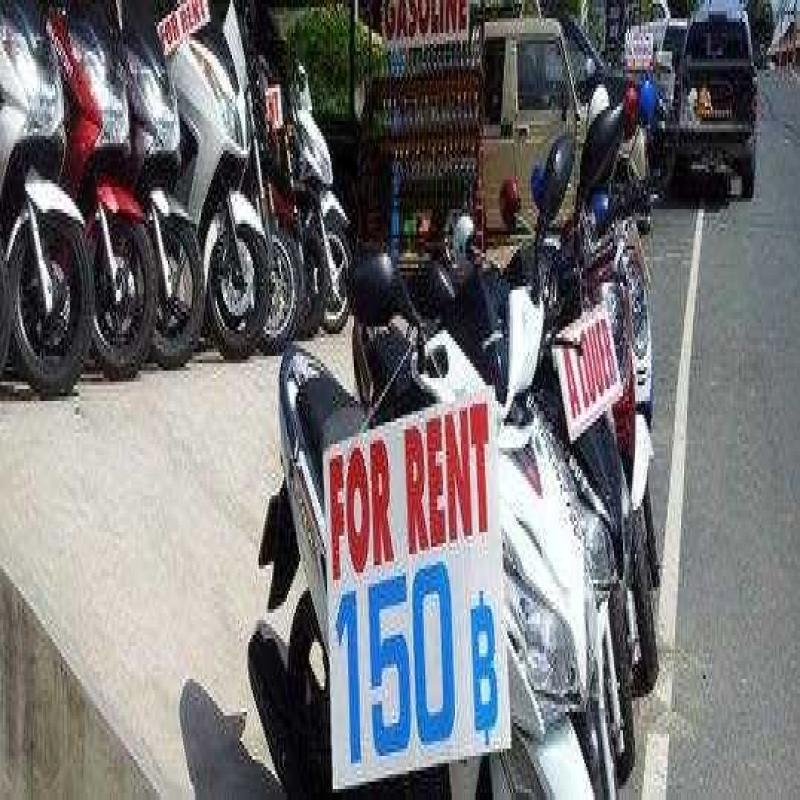bike: (399, 273, 606, 800), (56, 6, 154, 386), (178, 0, 284, 329), (0, 15, 84, 379), (118, 11, 204, 351)
